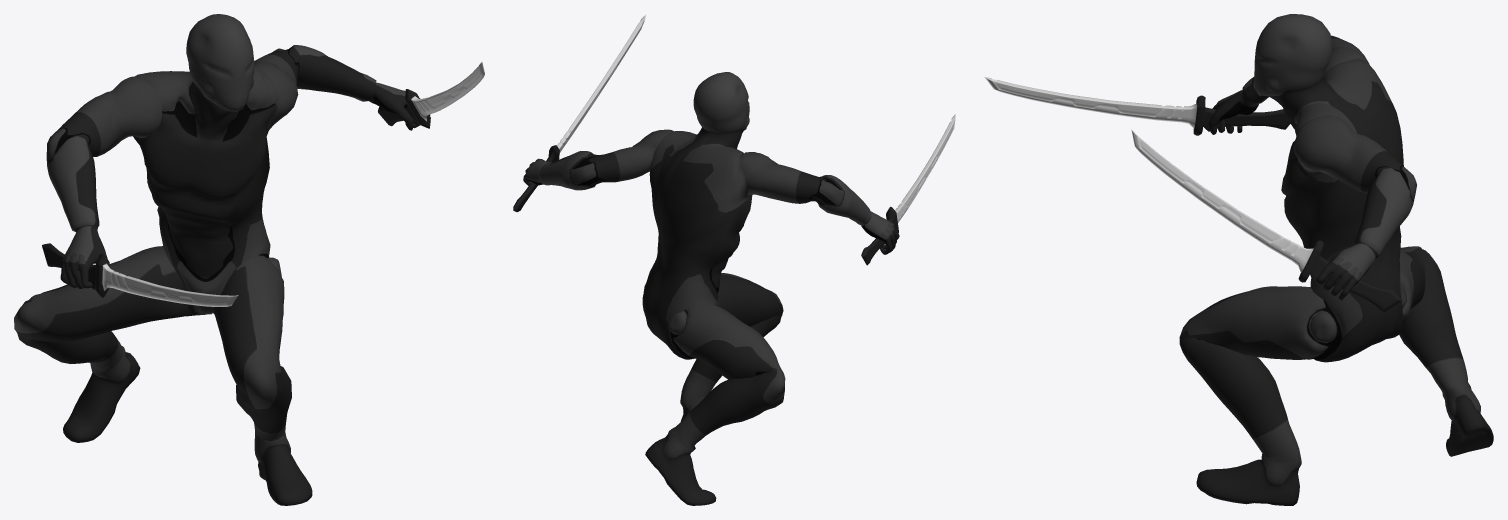
The picture shows the model from 3 angles, left to right: view 1: azimuth 30°, elevation 25°; view 2: azimuth 150°, elevation 25°; view 3: azimuth 270°, elevation 25°; orthographic projection. The views are drawn at different scales.
Visible parts, largest first — view 1: Cyborg_Ninja_Killer, Sword_l001, Sword_l; view 2: Cyborg_Ninja_Killer, Sword_l, Sword_l001; view 3: Cyborg_Ninja_Killer, Sword_l, Sword_l001.
Boxes of the visible parts, left/top/right/bottom form: Cyborg_Ninja_Killer: left=14, top=14, right=430, bottom=505; Sword_l001: left=42, top=243, right=238, bottom=306; Sword_l: left=378, top=62, right=484, bottom=128; Cyborg_Ninja_Killer: left=523, top=72, right=899, bottom=505; Sword_l: left=513, top=14, right=646, bottom=212; Sword_l001: left=861, top=114, right=955, bottom=265; Cyborg_Ninja_Killer: left=1179, top=14, right=1493, bottom=505; Sword_l: left=1131, top=129, right=1402, bottom=312; Sword_l001: left=984, top=77, right=1289, bottom=135.
Size of the model in its own units: 131 by 141 by 141.
2 materials, 2 textured.
